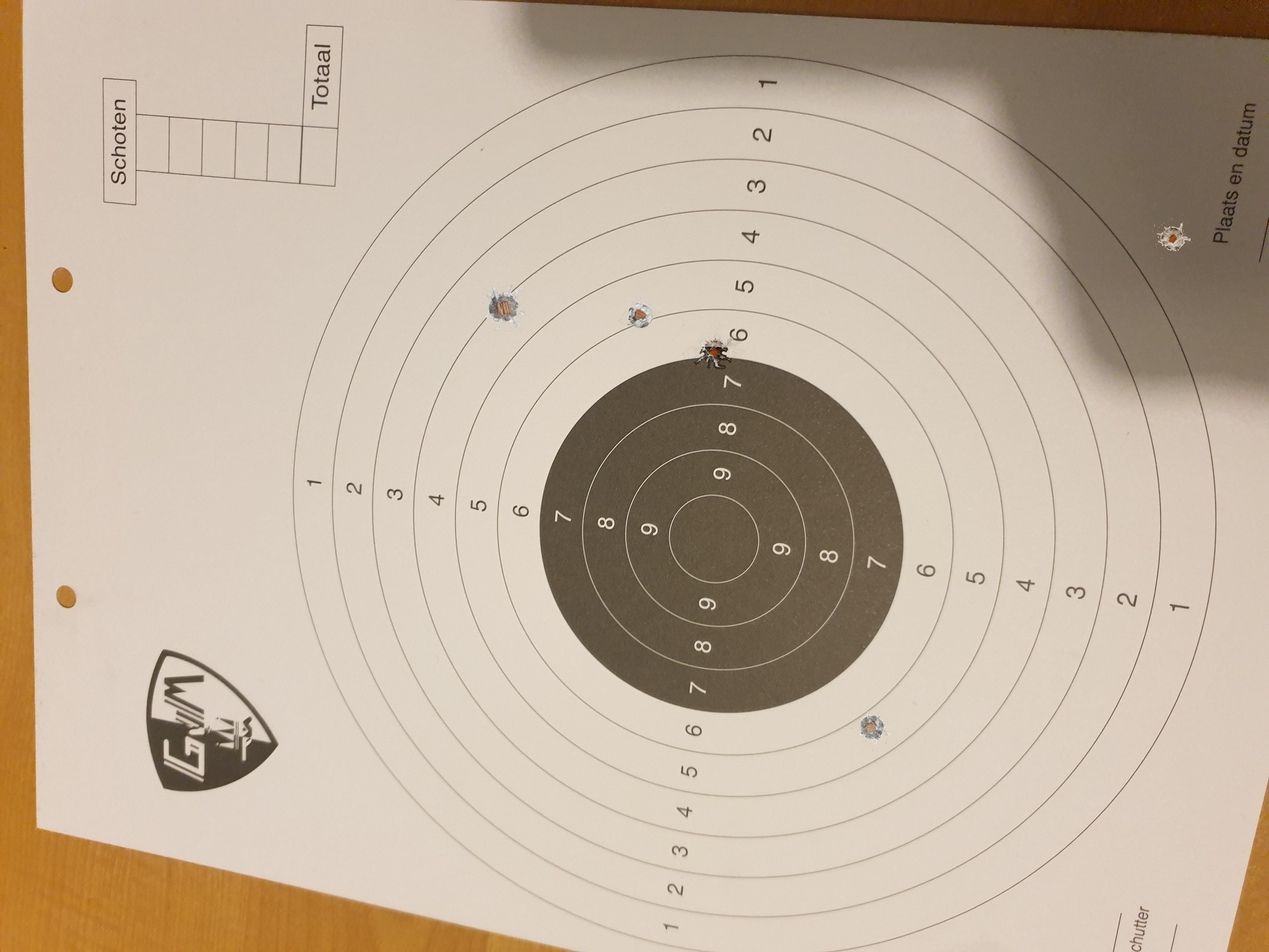hole: (484, 285, 522, 327), (694, 337, 733, 371), (858, 711, 891, 744), (1156, 221, 1190, 253), (626, 302, 653, 329)
